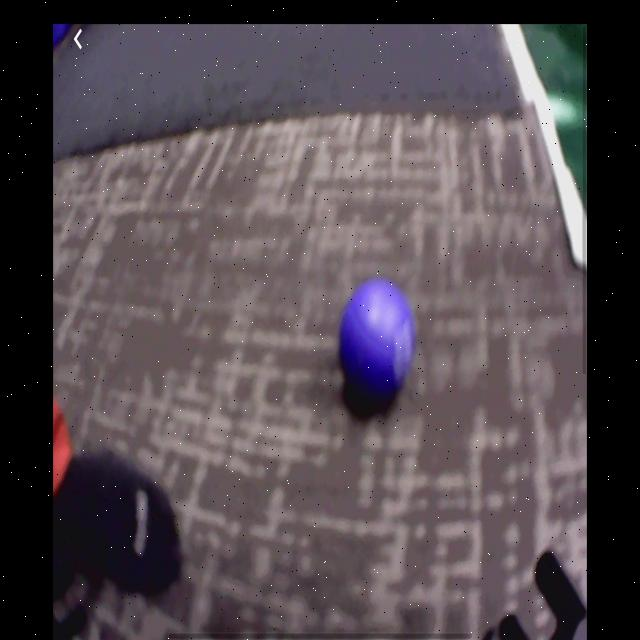ball: (341, 281, 415, 394)
